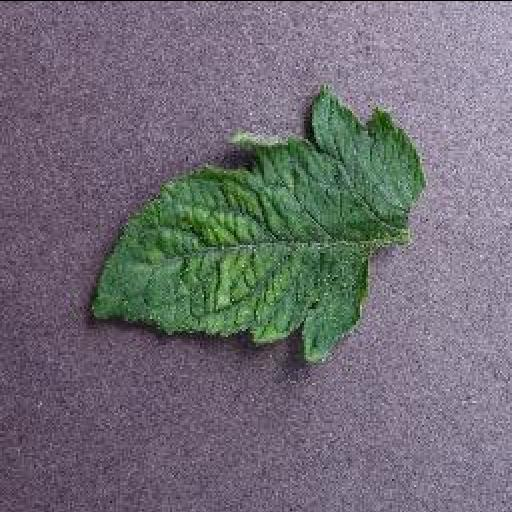Mosaic Virus: (85, 80, 423, 362)
